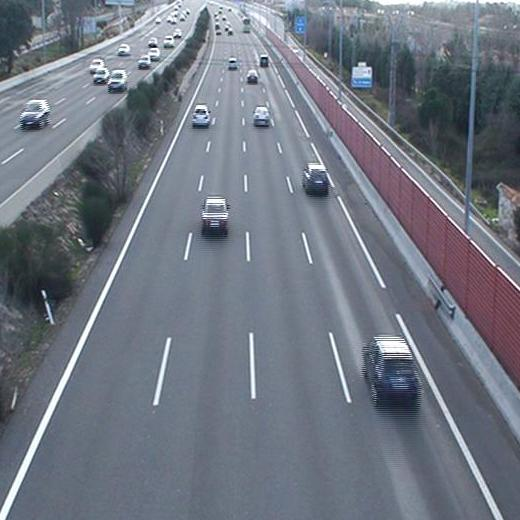car: (363, 335, 421, 407), (200, 196, 229, 234), (300, 164, 330, 195), (191, 104, 211, 128), (252, 105, 271, 126), (244, 70, 259, 85), (259, 55, 271, 68), (227, 58, 238, 71)
